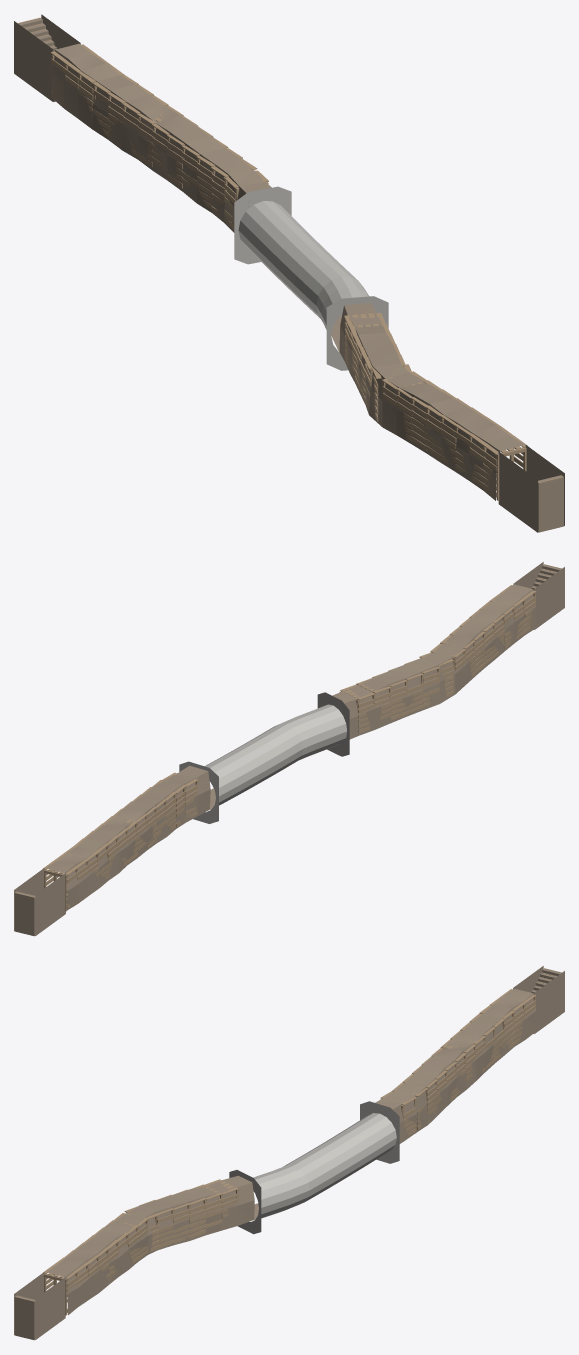
The model's file is tunnel_b3_b4.glb.
3 views of the same model, one above another, from view 1: azimuth 30°, elevation 25°; view 2: azimuth 150°, elevation 25°; view 3: azimuth 330°, elevation 25° (orthographic). The views are drawn at different scales.
Visible parts, largest first — view 1: tunnel_b3_b4__earth, tunnel_b3_b4__timber, tunnel_b3_b4__concrete_pipe; view 2: tunnel_b3_b4__earth, tunnel_b3_b4__timber, tunnel_b3_b4__concrete_pipe; view 3: tunnel_b3_b4__earth, tunnel_b3_b4__timber, tunnel_b3_b4__concrete_pipe.
Part boxes in pixels (left/top/right/bottom): tunnel_b3_b4__earth: left=14, top=14, right=564, bottom=532; tunnel_b3_b4__timber: left=17, top=17, right=563, bottom=500; tunnel_b3_b4__concrete_pipe: left=234, top=186, right=388, bottom=370; tunnel_b3_b4__earth: left=14, top=562, right=564, bottom=936; tunnel_b3_b4__timber: left=15, top=564, right=561, bottom=911; tunnel_b3_b4__concrete_pipe: left=179, top=692, right=349, bottom=823; tunnel_b3_b4__earth: left=14, top=966, right=564, bottom=1340; tunnel_b3_b4__timber: left=15, top=968, right=561, bottom=1315; tunnel_b3_b4__concrete_pipe: left=229, top=1101, right=399, bottom=1234.
Bounding box in the file's own units: 6.89 × 3.85 × 53.6.
